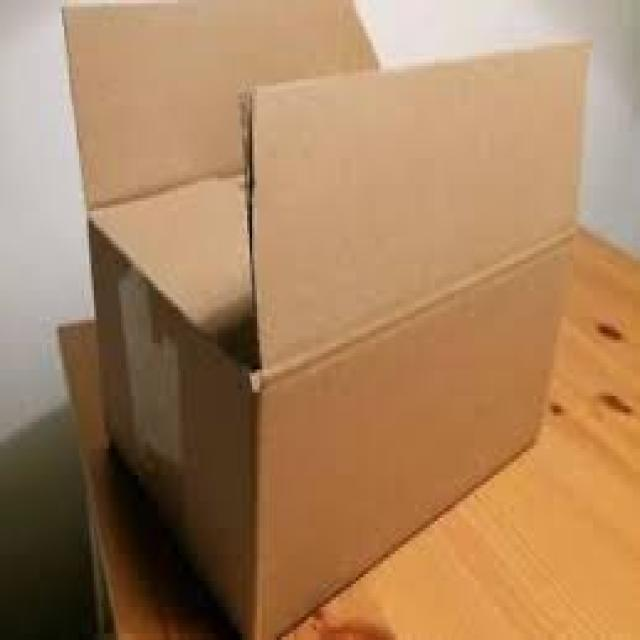Cardboard: (56, 0, 582, 640)
